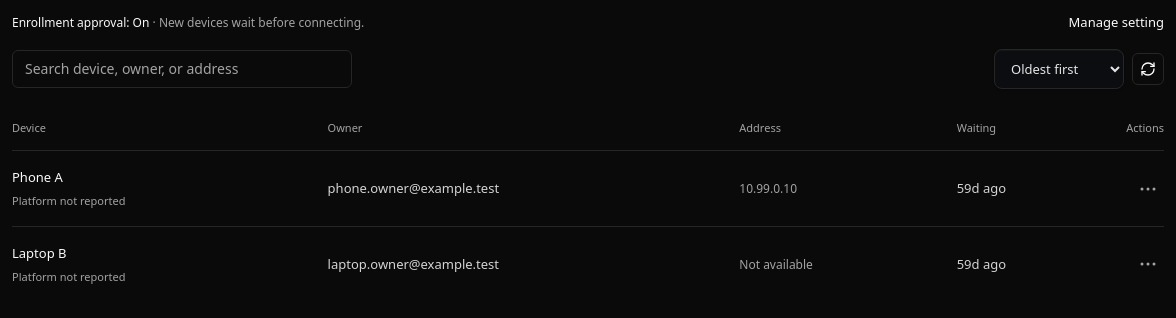
DeviceApprovalSection confirmation › does not render approval mutations for a restricted viewer
Click the button named "Actions for Phone A". click: (1148, 189)
box: [1132,173,1164,205]
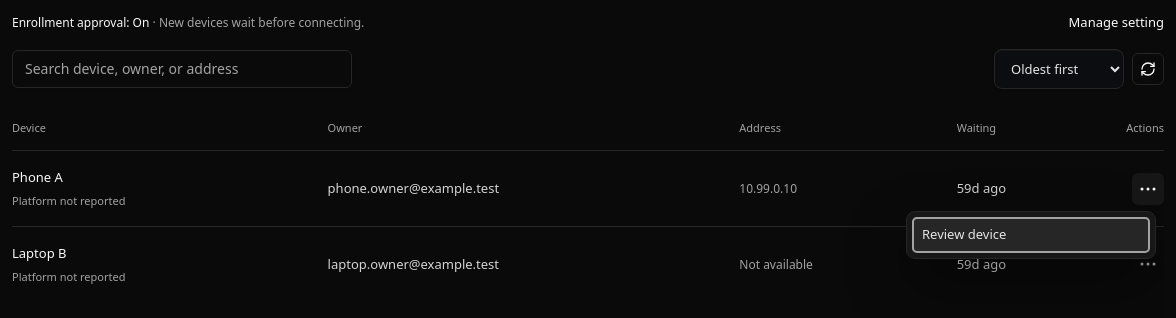
expect the menu item "Review device" is shown: met, box [912,217,1150,253]
